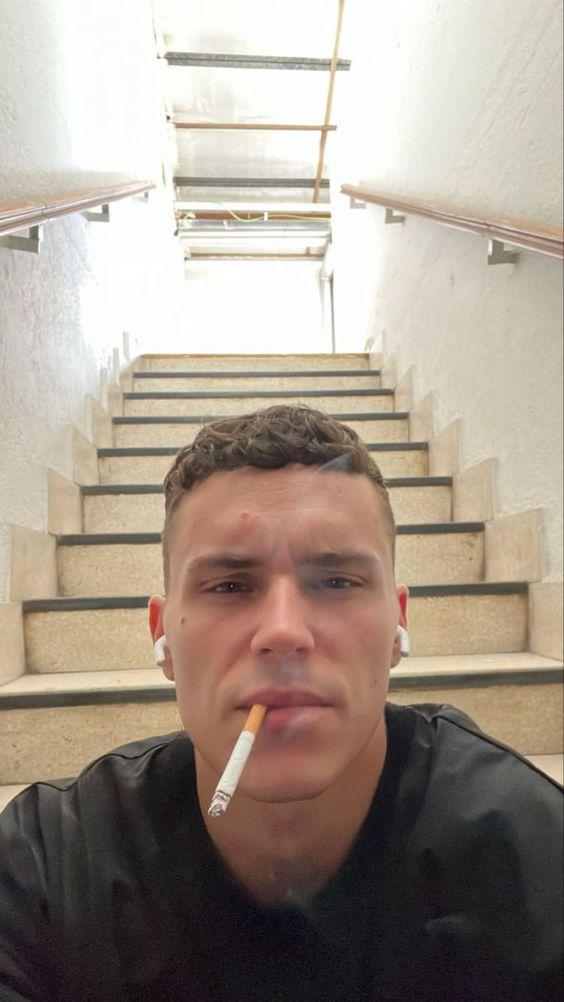cigarette: (207, 703, 269, 817)
